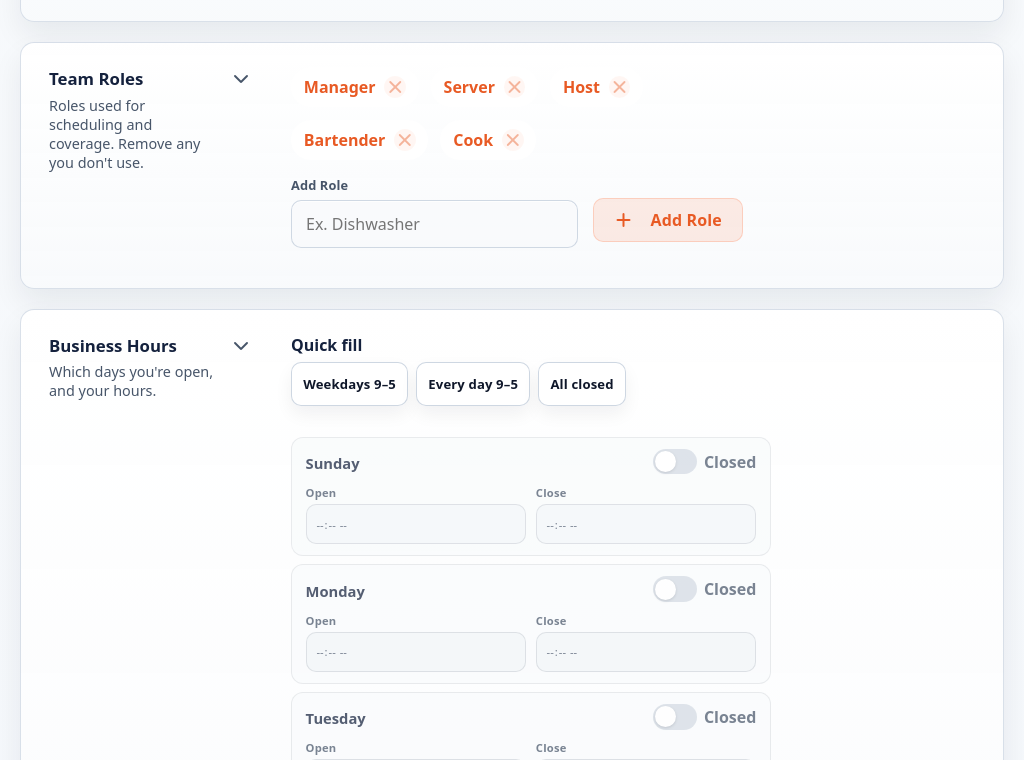
Test: Settings view › fills business hours from the "Weekdays 9–5" preset
The width and height of the screenshot is (1024, 760).
(page scrolled)
Click the button "Weekdays 9–5" at x=350, y=384, box [291,362,408,406]
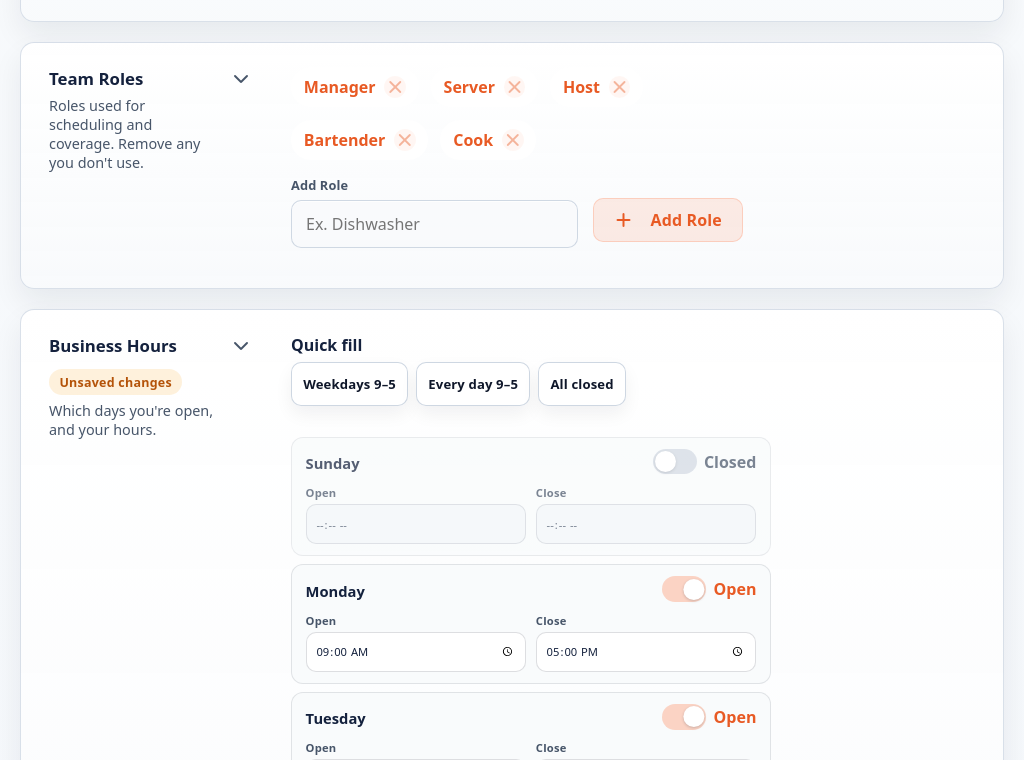
Check: the 1st time field labelled "Open" is disabled, box [306,504,526,544]
Check: the 2nd time field labelled "Open" is enabled, box [306,632,526,672]
